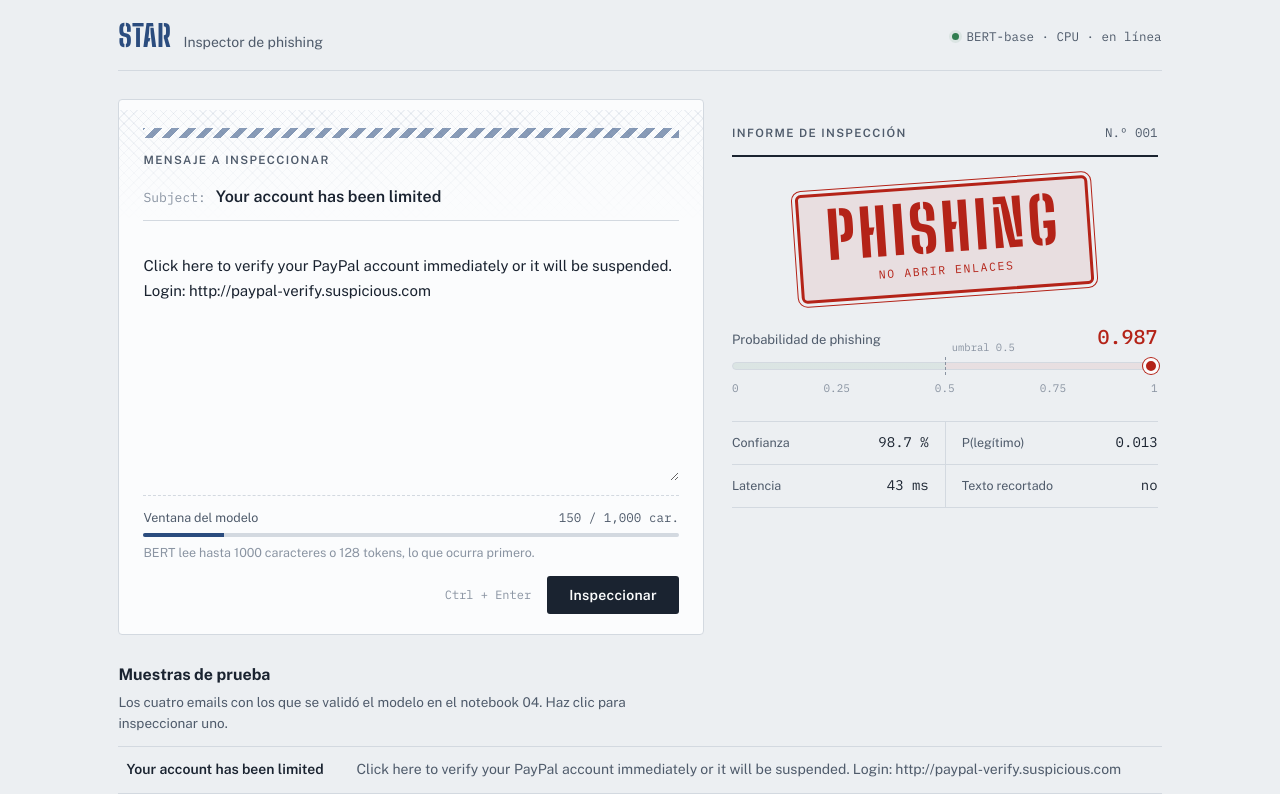
Test: App: formulario › enviar usa subject/body editados y numera el informe
The width and height of the screenshot is (1280, 794).
Expected: the text "N.º 001" is shown, [1105,123,1158,142]
Replace the text in the field labelled "Subject:" with "Hola" at (447, 197), box [216,184,679,210]
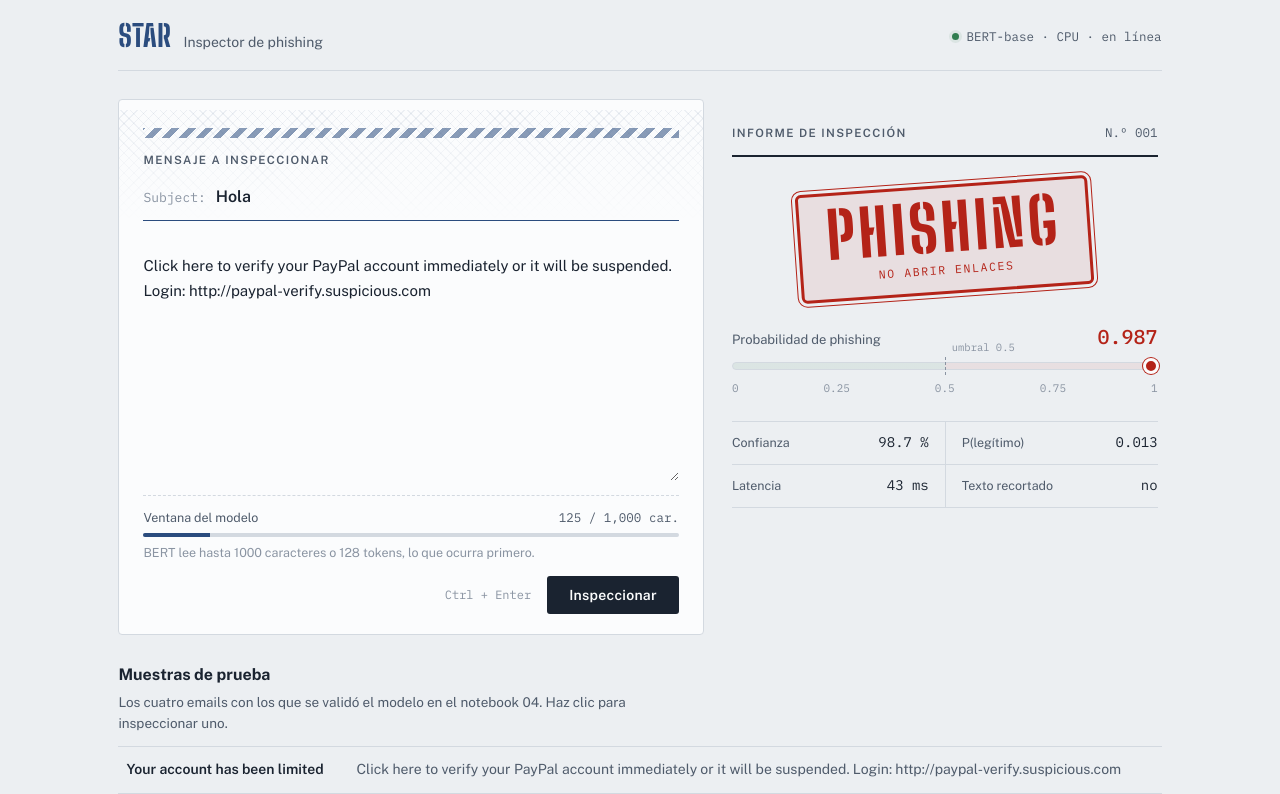
Replace the text in the text box named "Cuerpo del mensaje" with "Texto de prueba" at (411, 365), box [143,250,679,481]
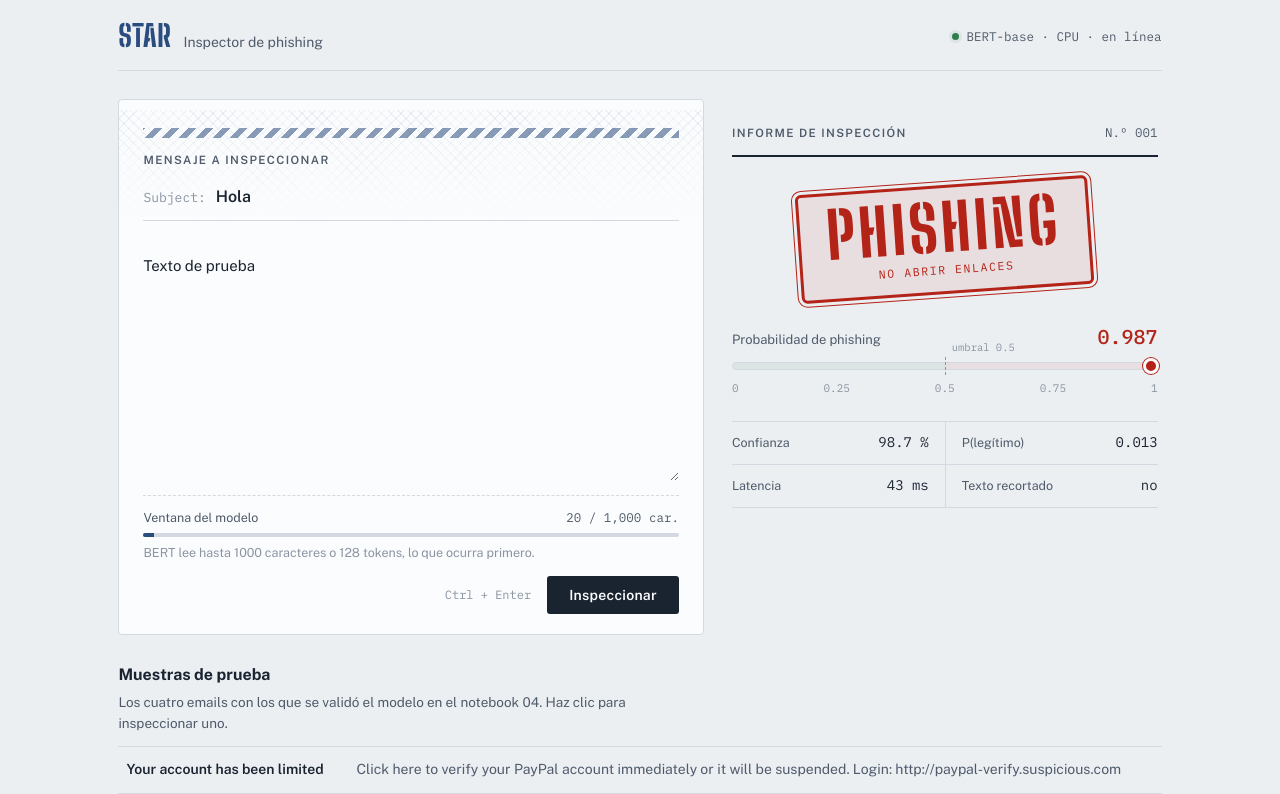
Click the button "Inspeccionar" at (613, 595), box [547,576,679,614]
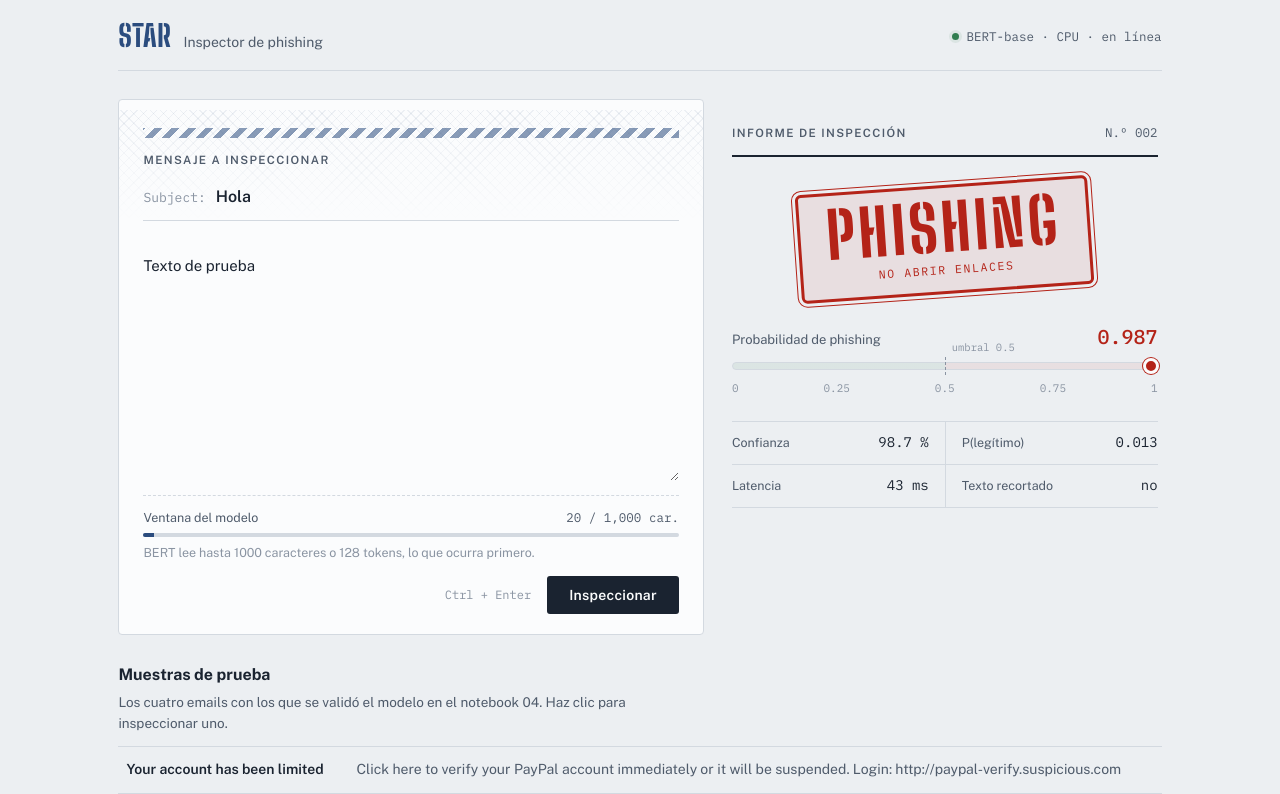
Result: the text "N.º 002" is shown at [1105,123,1158,142]
